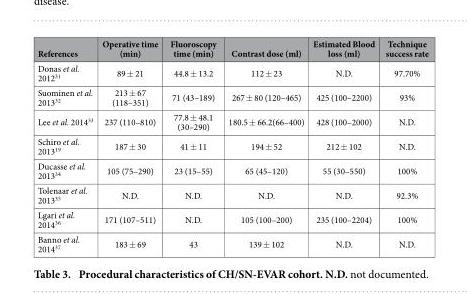table: (36, 37, 427, 254)
table column: (221, 37, 307, 254), (307, 37, 379, 254), (97, 37, 163, 254), (36, 37, 97, 254), (163, 37, 221, 254), (379, 37, 427, 254)
table column header: (36, 37, 427, 60)
table row: (36, 84, 427, 109), (36, 133, 427, 158), (36, 206, 427, 231), (36, 60, 427, 84), (36, 109, 427, 133), (36, 158, 427, 182), (36, 182, 427, 206), (36, 37, 427, 60), (36, 231, 427, 254)
